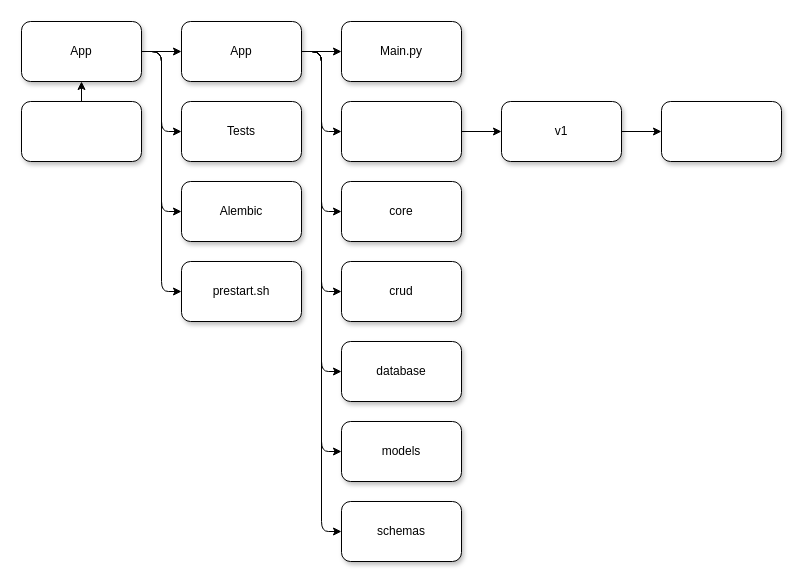
Some shapes in this 805 by 586 pixel diagram are drawn without their labels. The shapes that lost their labels are listed below. From the top down, each one's centre as x and y in pixels, then its label:
At pixel 82 132: "Docker".
At pixel 402 132: "api".
At pixel 722 132: "endpoints".
